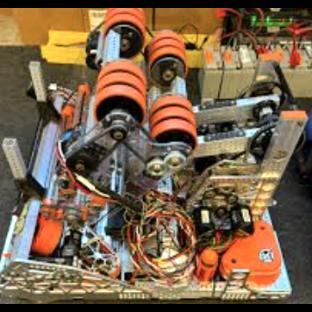Robot: (0, 8, 307, 304)
